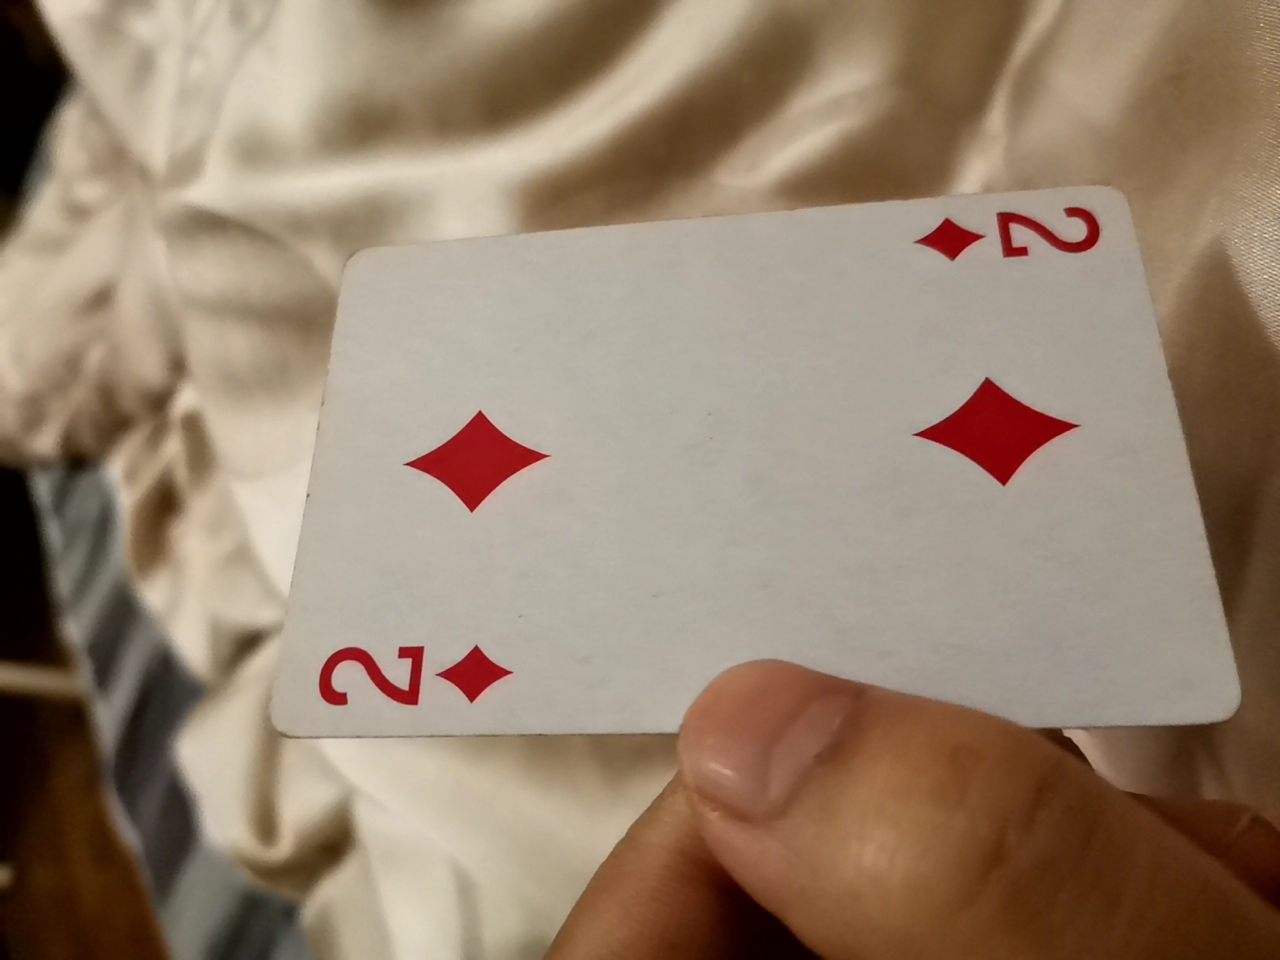fk 2: (248, 142, 1241, 775)
